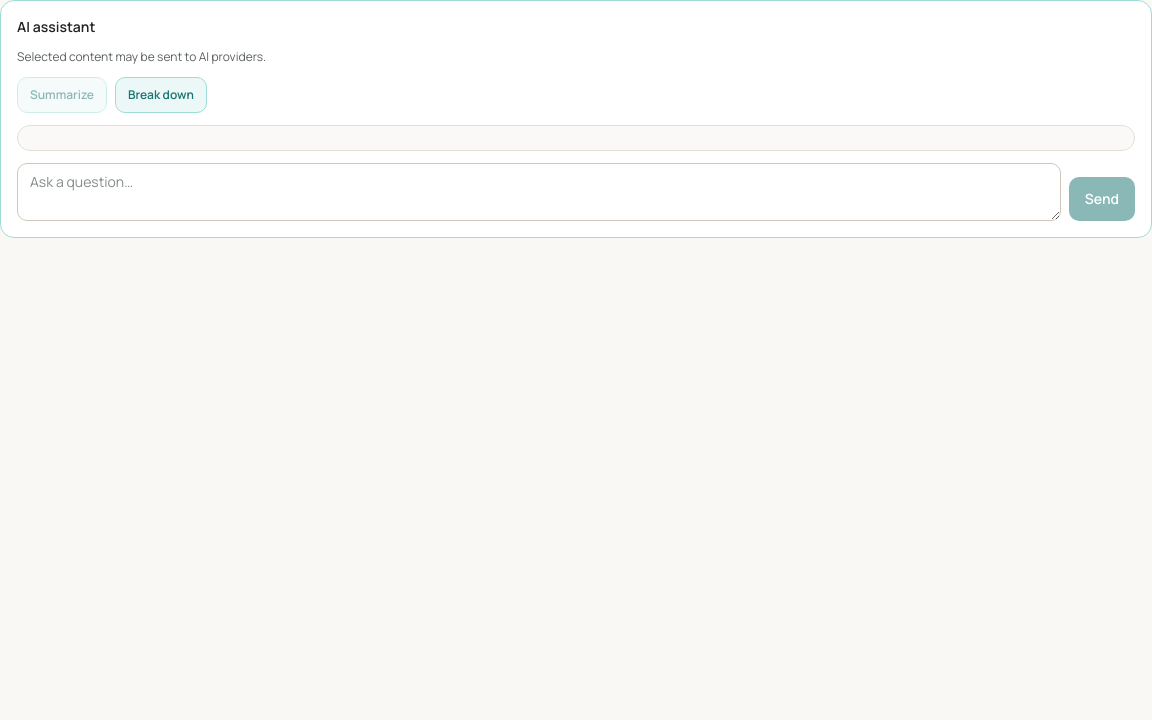
Test: BreakdownDialog › TC-AI-04: gives an empty board an actionable list state
What coordinates should you click on to do the following:
click the button with aria-label "Break down a project"
I would click on:
 (161, 95)
Its box is [115,77,207,113].
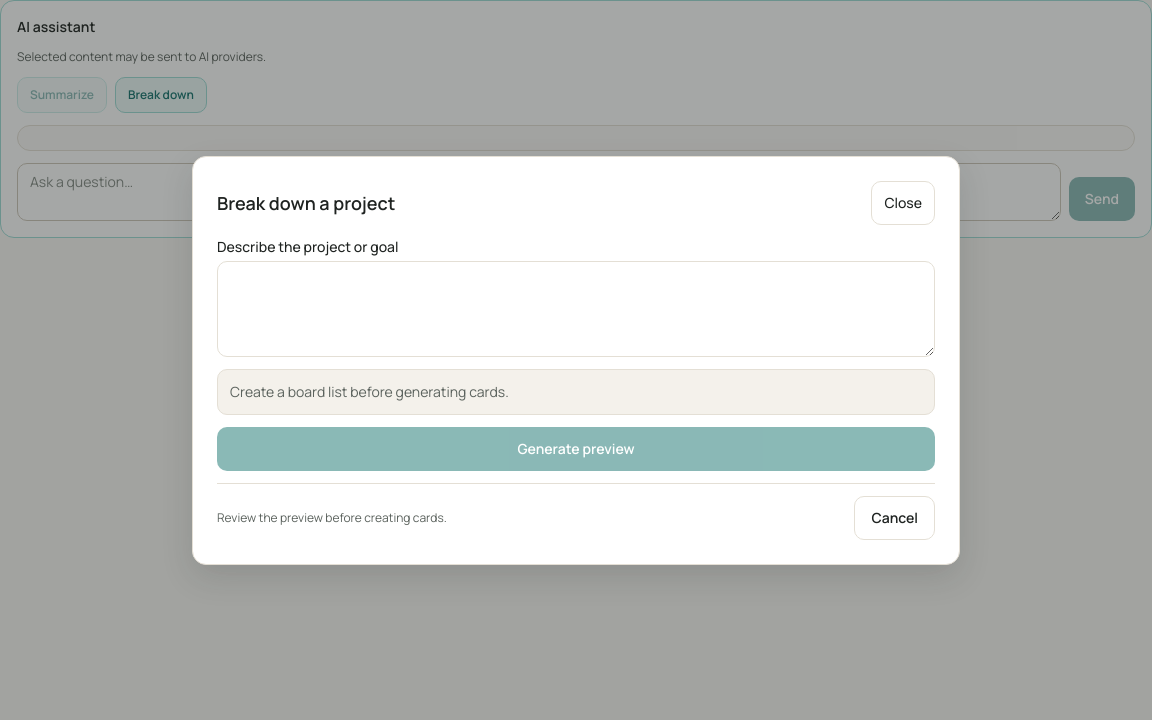
Check: the text "Create a board list before generating cards." is shown, box [217,368,935,414]
Check: the button "Generate preview" is disabled, box [217,426,935,470]
